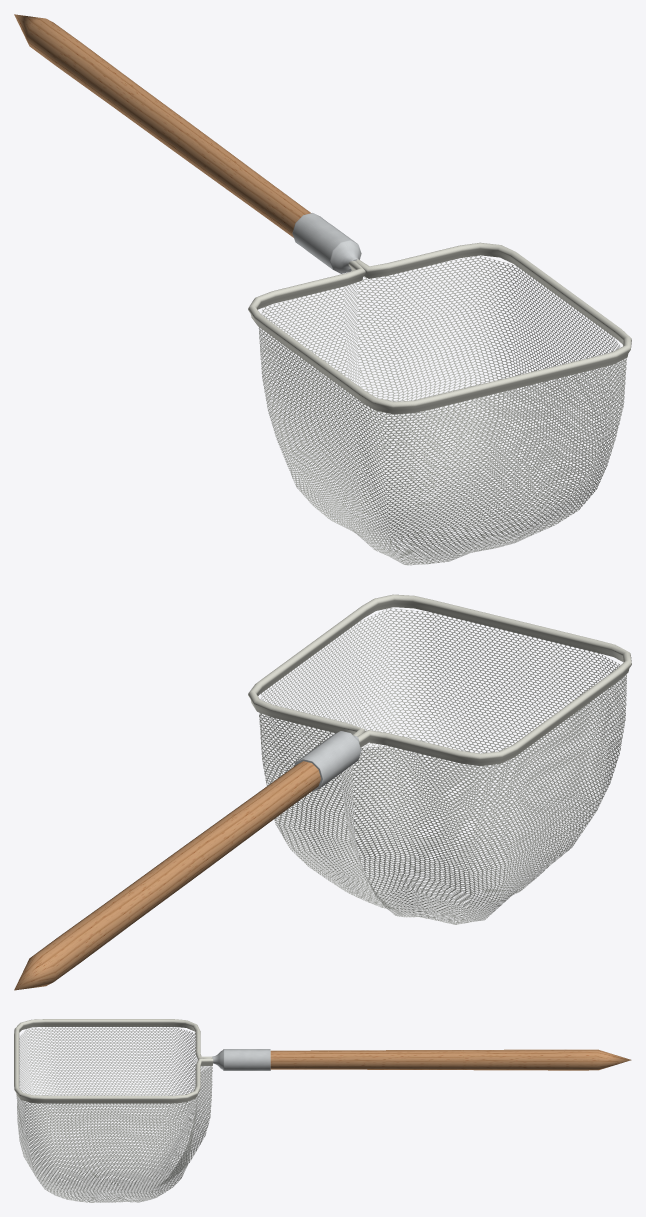
File: net_small.lod2.glb
The picture shows the model from 3 angles, top to bottom: view 1: azimuth 30°, elevation 25°; view 2: azimuth 150°, elevation 25°; view 3: azimuth 270°, elevation 25°; orthographic projection. The views are drawn at different scales.
Visible parts, largest first — view 1: Bag, Frame, Handle; view 2: Bag, Frame, Handle; view 3: Bag, Handle, Frame.
Boxes of the visible parts, x1,y1,x2,y2 form: Bag: (258,255,626,565); Frame: (248,213,631,414); Handle: (14,14,310,237); Bag: (259,608,626,924); Frame: (248,594,631,791); Handle: (14,761,320,990); Bag: (16,1027,212,1202); Handle: (270,1049,631,1070); Frame: (14,1019,270,1103).
Bounding box in the file's own units: 0.2058 × 0.1685 × 0.6809.
Materials: 4 (4 with a texture image).
